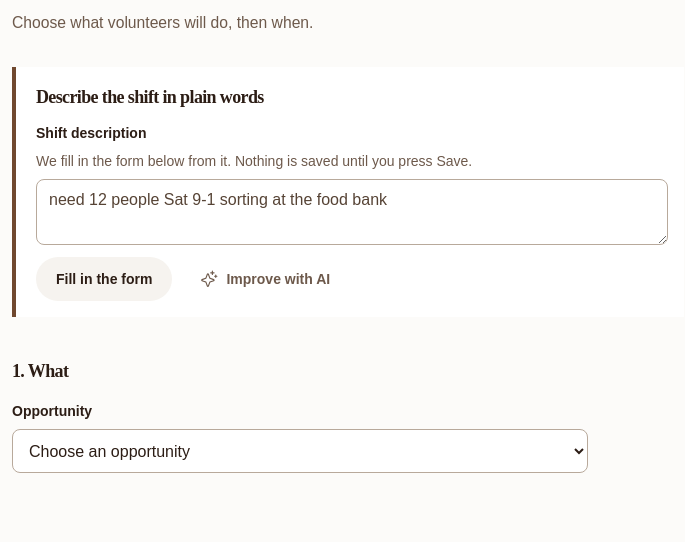
Scenario: OrgShiftNewPage planner › asks for a sentence when the box is empty and explains when nothing is recognized
This screenshot has width=685, height=542.
Click the button "Fill in the form": coordinates (104, 279) [36,257,172,301]
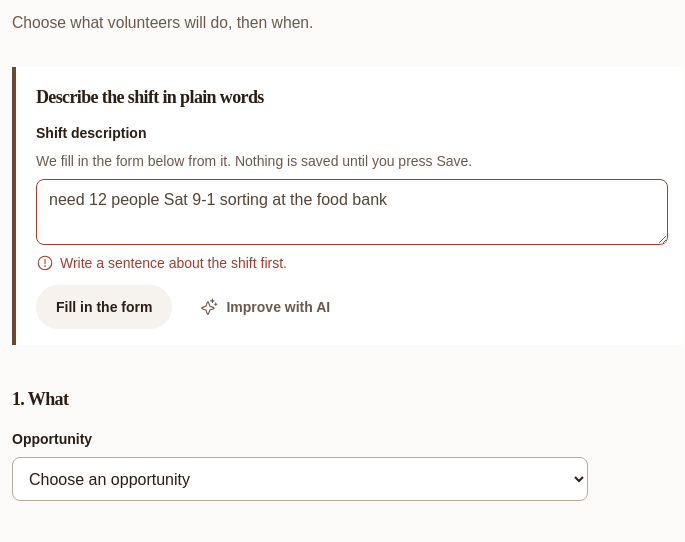
Expected: the text "Write a sentence about the shift first." is shown, [36,254,287,272]
In the text box labelled "Shift description": coordinates (352, 212) [36,179,668,245], type "???"
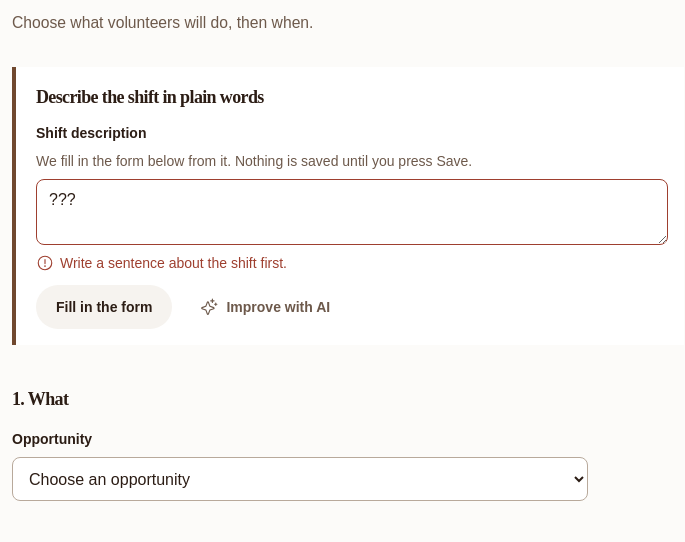
Click the button "Fill in the form": coordinates (104, 307) [36,285,172,329]
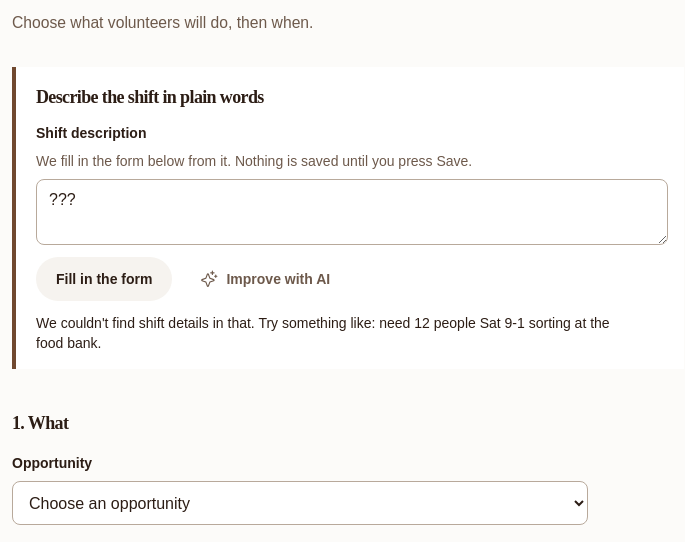
Expected: the dropdown labelled "Opportunity" shows "Choose an opportunity", [12,481,588,525]
Expected: the text "We couldn't find shift details in that" is shown, [36,315,610,351]
